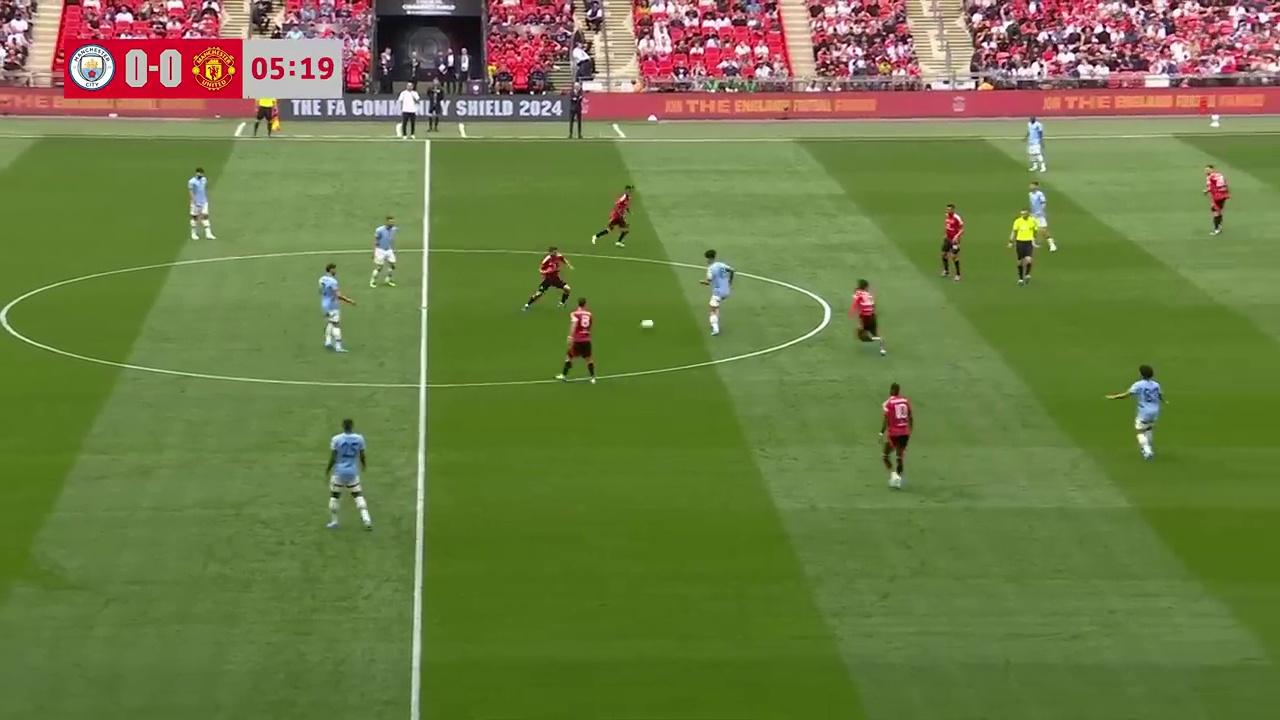ball: (638, 316, 656, 330)
player: (1105, 365, 1167, 461), (325, 418, 374, 530), (879, 383, 913, 487), (556, 297, 596, 384), (317, 262, 355, 352), (522, 246, 573, 312), (846, 279, 886, 353), (699, 250, 734, 334), (591, 186, 633, 247), (187, 166, 216, 241), (369, 215, 398, 288), (1026, 182, 1057, 250), (1202, 165, 1229, 235), (941, 203, 964, 280), (1024, 116, 1048, 174)
referee: (1007, 208, 1036, 286), (254, 92, 279, 139)
